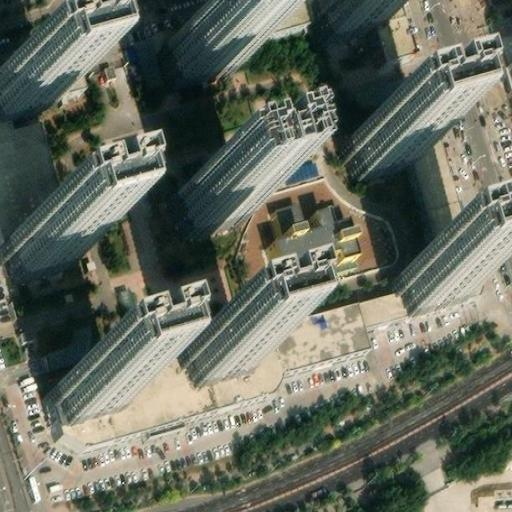building: (56, 296, 370, 439), (393, 71, 471, 268), (0, 96, 72, 266), (271, 195, 361, 267), (177, 163, 258, 224), (167, 16, 246, 77), (60, 356, 134, 412), (184, 323, 259, 378), (403, 247, 476, 303), (13, 207, 87, 261), (352, 111, 424, 164), (0, 57, 61, 112), (358, 281, 420, 317), (319, 0, 391, 29), (470, 264, 481, 285), (219, 332, 233, 346), (19, 67, 34, 80), (93, 369, 106, 381), (506, 30, 512, 50)
